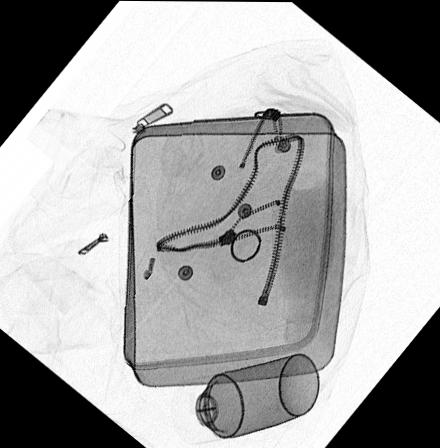Sprayer: (167, 350, 322, 444)
